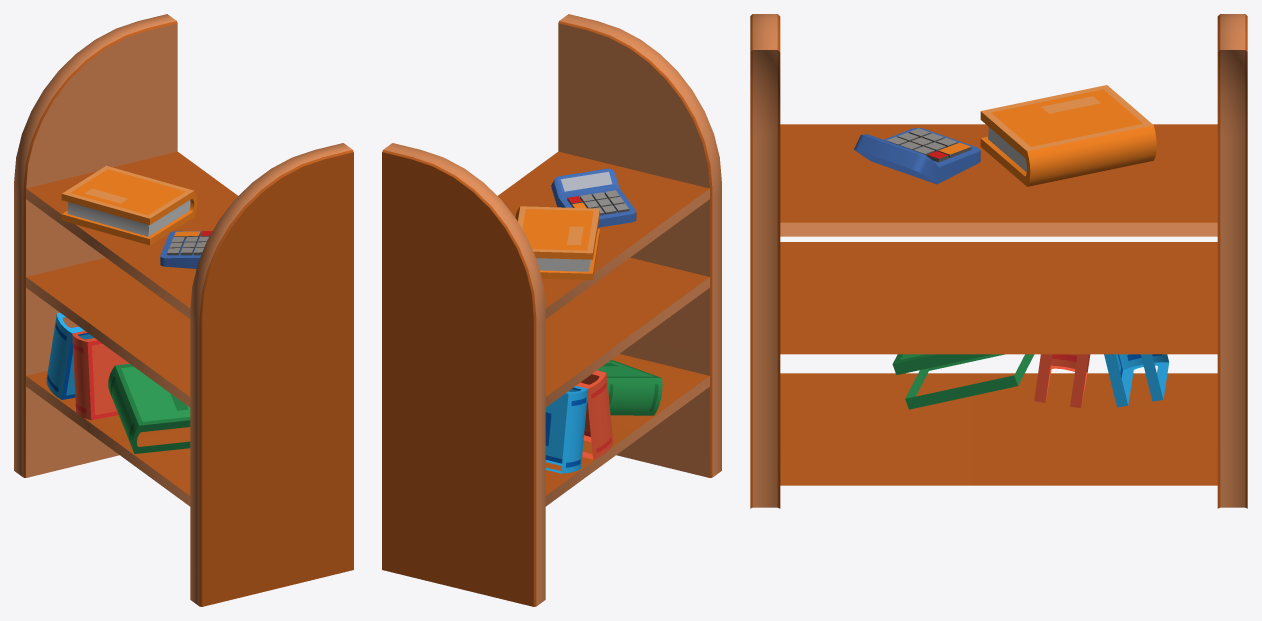
Rendered from Book Shelf.fbx.
3 renders of one model, left to right at view 1: azimuth 30°, elevation 25°; view 2: azimuth 150°, elevation 25°; view 3: azimuth 270°, elevation 25°, orthographic. The views are drawn at different scales.
Visible parts, largest first — view 1: Book Shelf; view 2: Book Shelf; view 3: Book Shelf.
Boxes of the visible parts, <box> form: Book Shelf: <box>14,14,353,606</box>; Book Shelf: <box>382,14,721,606</box>; Book Shelf: <box>750,14,1247,508</box>.
Size of the model in its own units: 4.78 by 12.16 by 9.84.
